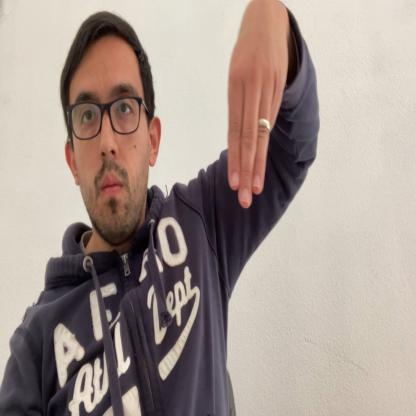M: (227, 4, 288, 217)
